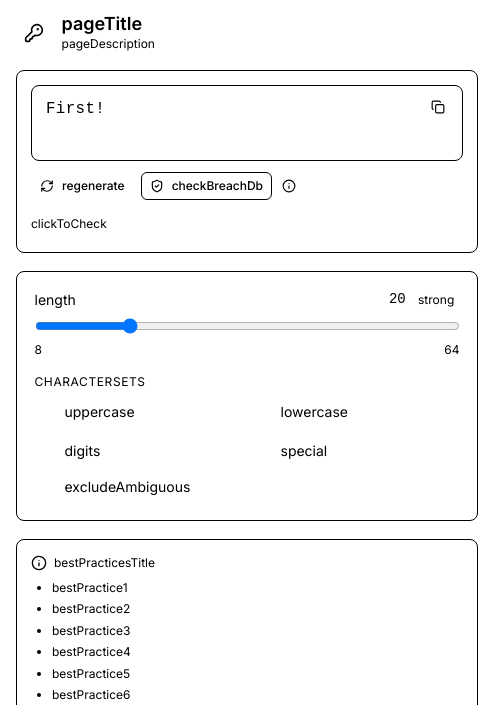
Test: PasswordGenerator › regenerate button generates a new password
This screenshot has width=495, height=705.
Expected: the text "First!" is shown, [46,100,105,118]
Click the button with test id "generate-btn".
click(82, 186)  # box [31,172,134,200]
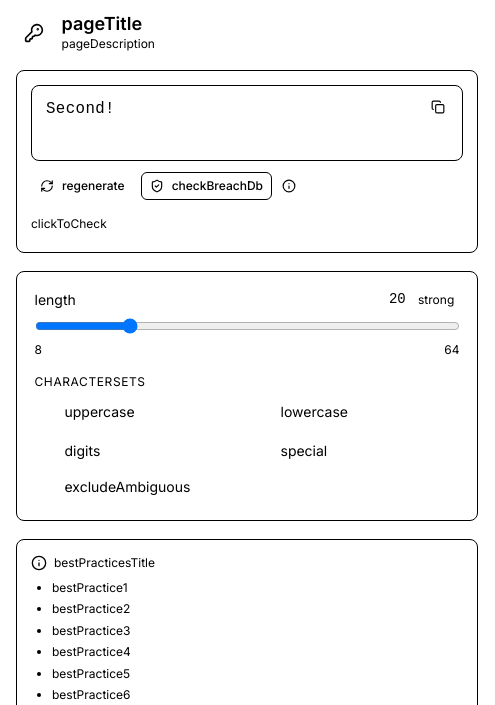
Expected: the text "Second!" is shown, [46,100,115,118]
